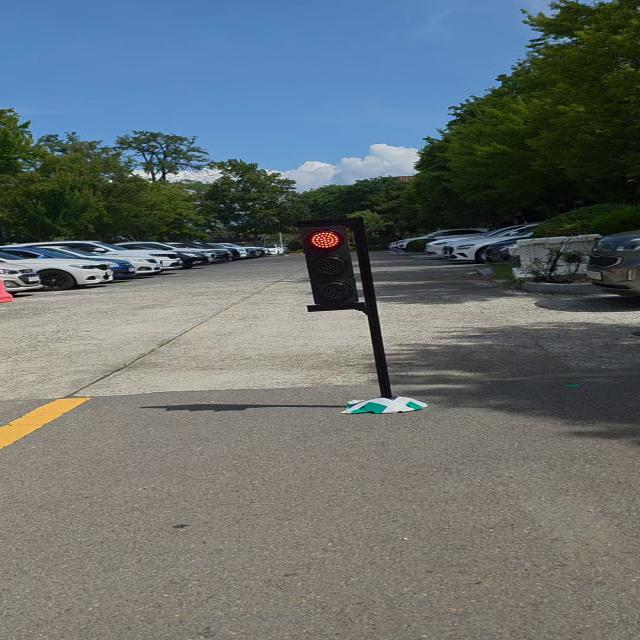red: (290, 222, 366, 312)
